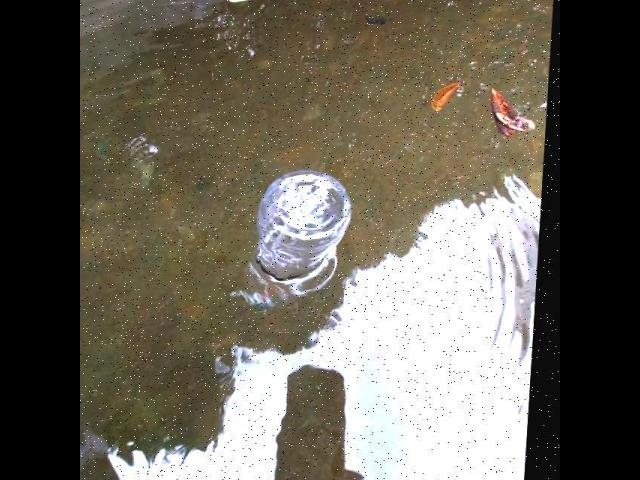Bottle: (246, 162, 356, 314)
